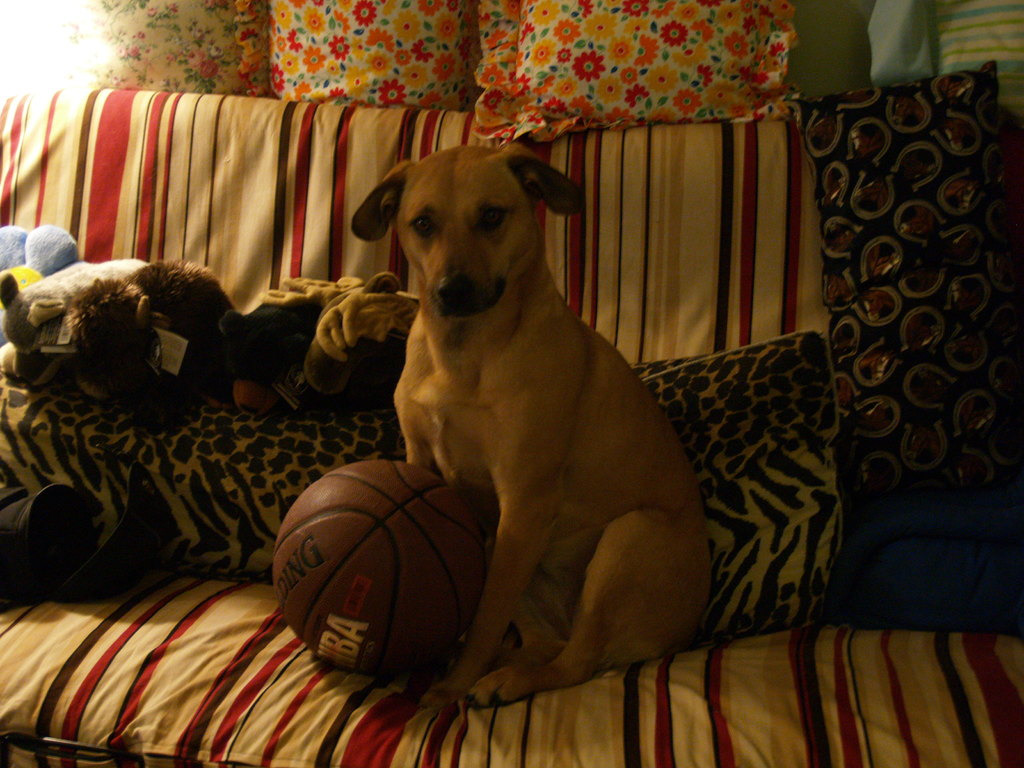Ball: (270, 458, 487, 675)
